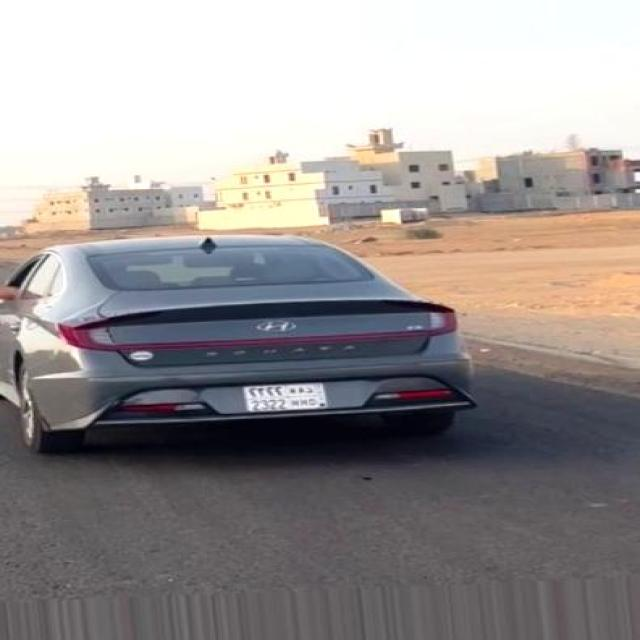Car-plate: (225, 374, 337, 421)
